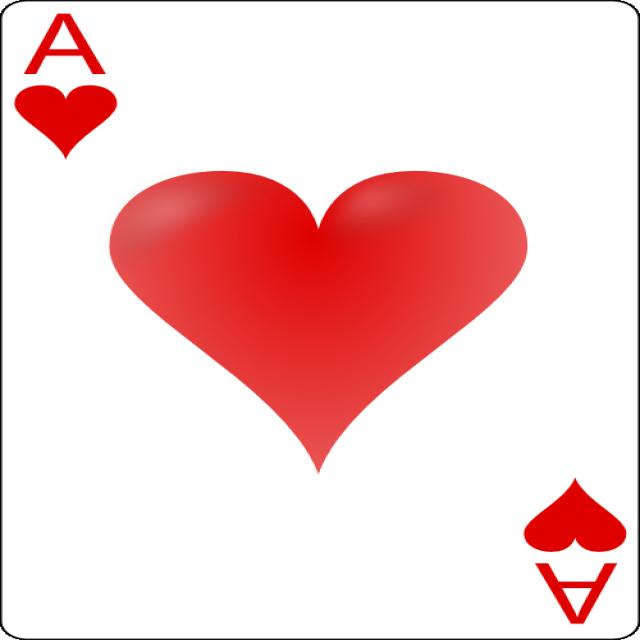Heart: (109, 171, 529, 474), (13, 84, 118, 160), (523, 478, 627, 552)
